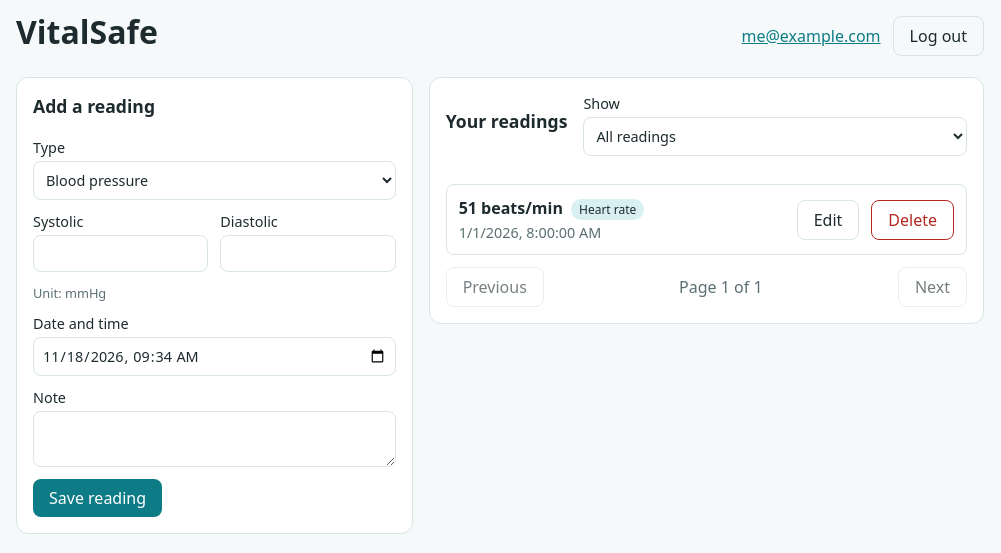
Test case: DashboardPage › edits a reading
This screenshot has width=1001, height=553.
Click the button "Edit" at (828, 220), box [797,200,859,240]
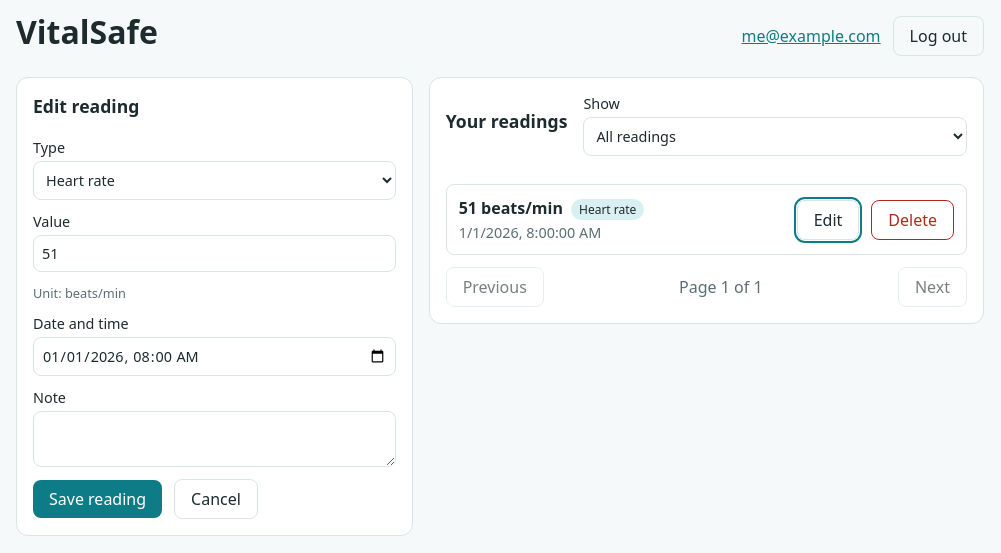
Result: the heading "Edit reading" is shown at [33,94,139,118]
Replace the text in the number field labelled "Value" with "77" at (214, 254), box [33,235,396,272]
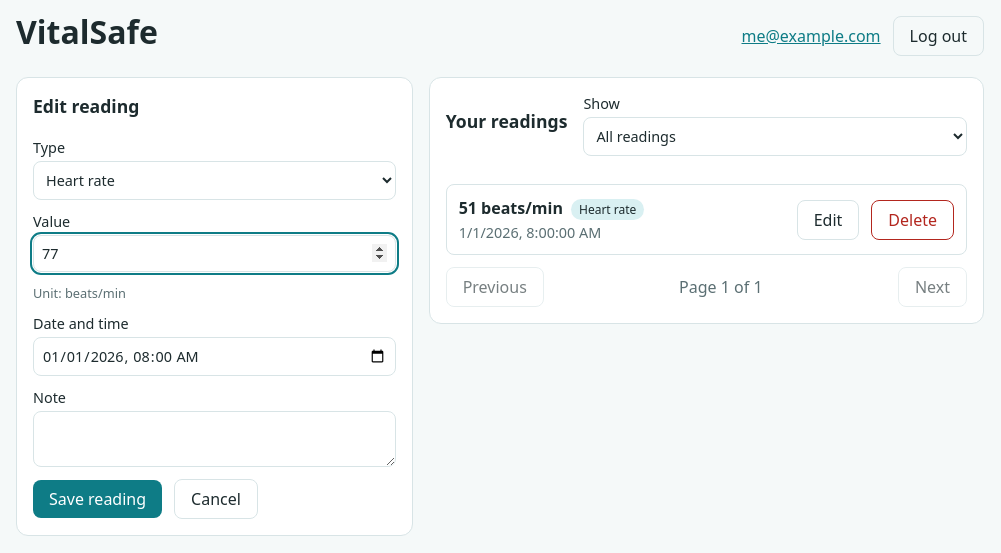
Click the button "Save reading" at (98, 499), box [33,480,162,518]
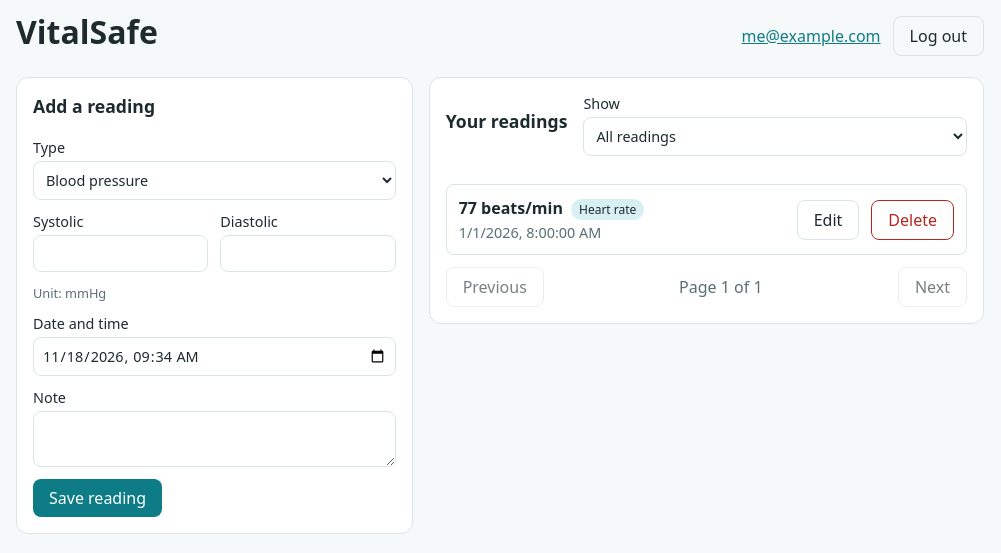
Result: the text "77 beats/min" is shown at [459,197,563,219]
Result: the heading "Add a reading" is shown at [33,94,155,118]
